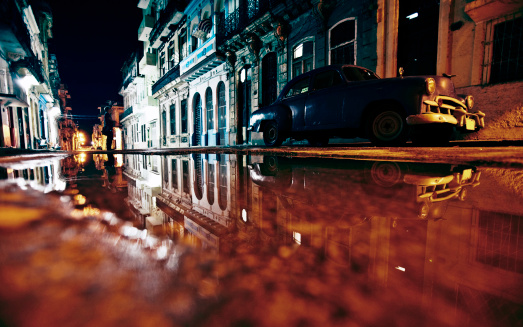car: (240, 61, 490, 152)
